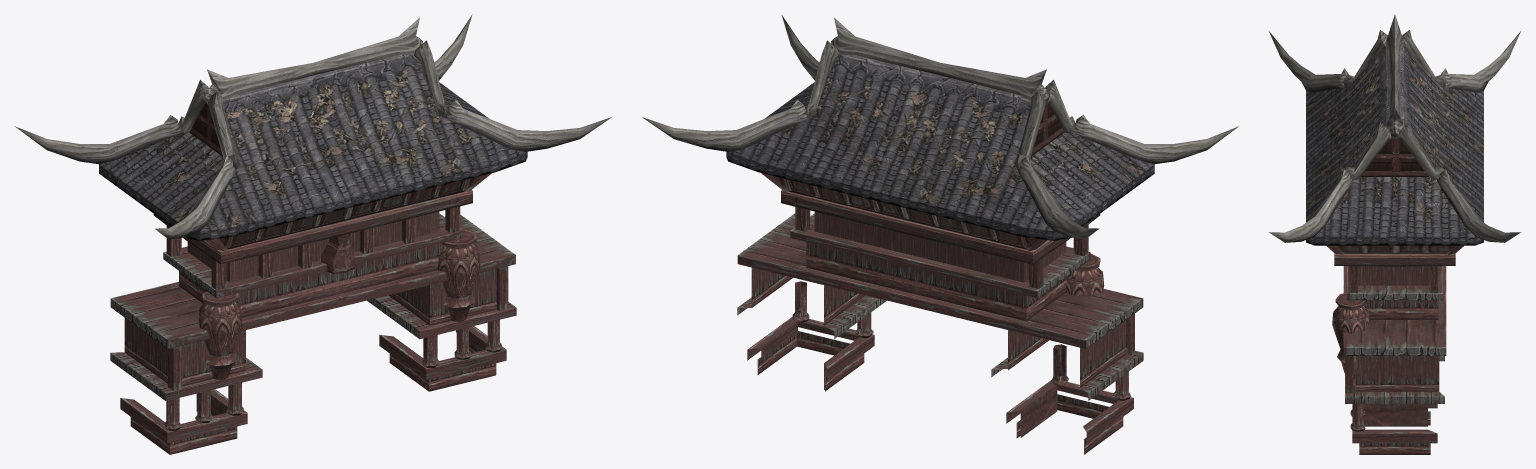
The model's file is 4009_Item_jianzhu_3.FBX.
The picture shows the model from 3 angles, left to right: view 1: azimuth 30°, elevation 25°; view 2: azimuth 150°, elevation 25°; view 3: azimuth 270°, elevation 25°; orthographic projection. The views are drawn at different scales.
Visible parts, largest first — view 1: 4009_Item_jianzhu_3; view 2: 4009_Item_jianzhu_3; view 3: 4009_Item_jianzhu_3.
Boxes of the visible parts, x1,y1,x2,y2 form: 4009_Item_jianzhu_3: [14, 14, 611, 454]; 4009_Item_jianzhu_3: [642, 15, 1238, 454]; 4009_Item_jianzhu_3: [1269, 15, 1521, 454].
Size of the model in its own units: 638 by 475 by 338.
